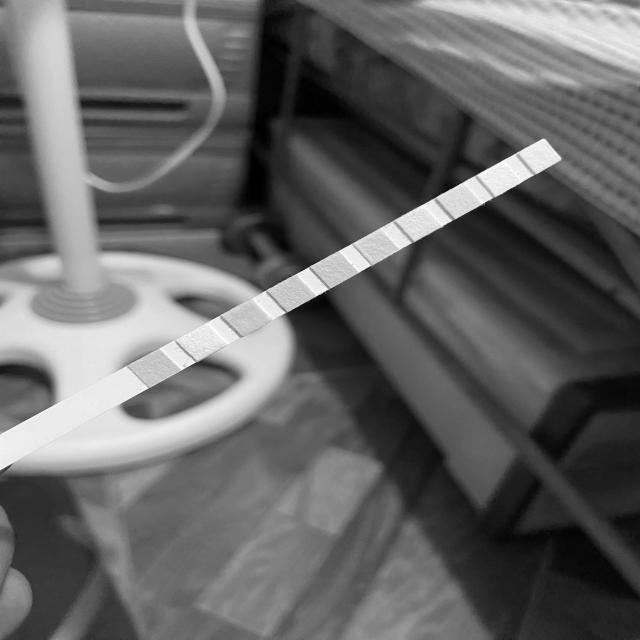Bilirubin: (188, 334, 215, 352)
Blood: (322, 261, 348, 279)
Glucose: (142, 358, 169, 378)
Ketone: (233, 308, 260, 327)
Leukocytes: (524, 148, 554, 164)
Nitrite: (485, 171, 513, 187)
Protein: (403, 215, 432, 232)
SpGravity: (278, 286, 305, 302)
Urobilinogen: (444, 193, 474, 210)
background: (0, 0, 640, 640)
pH: (363, 238, 388, 257)
strip: (0, 139, 563, 472)
